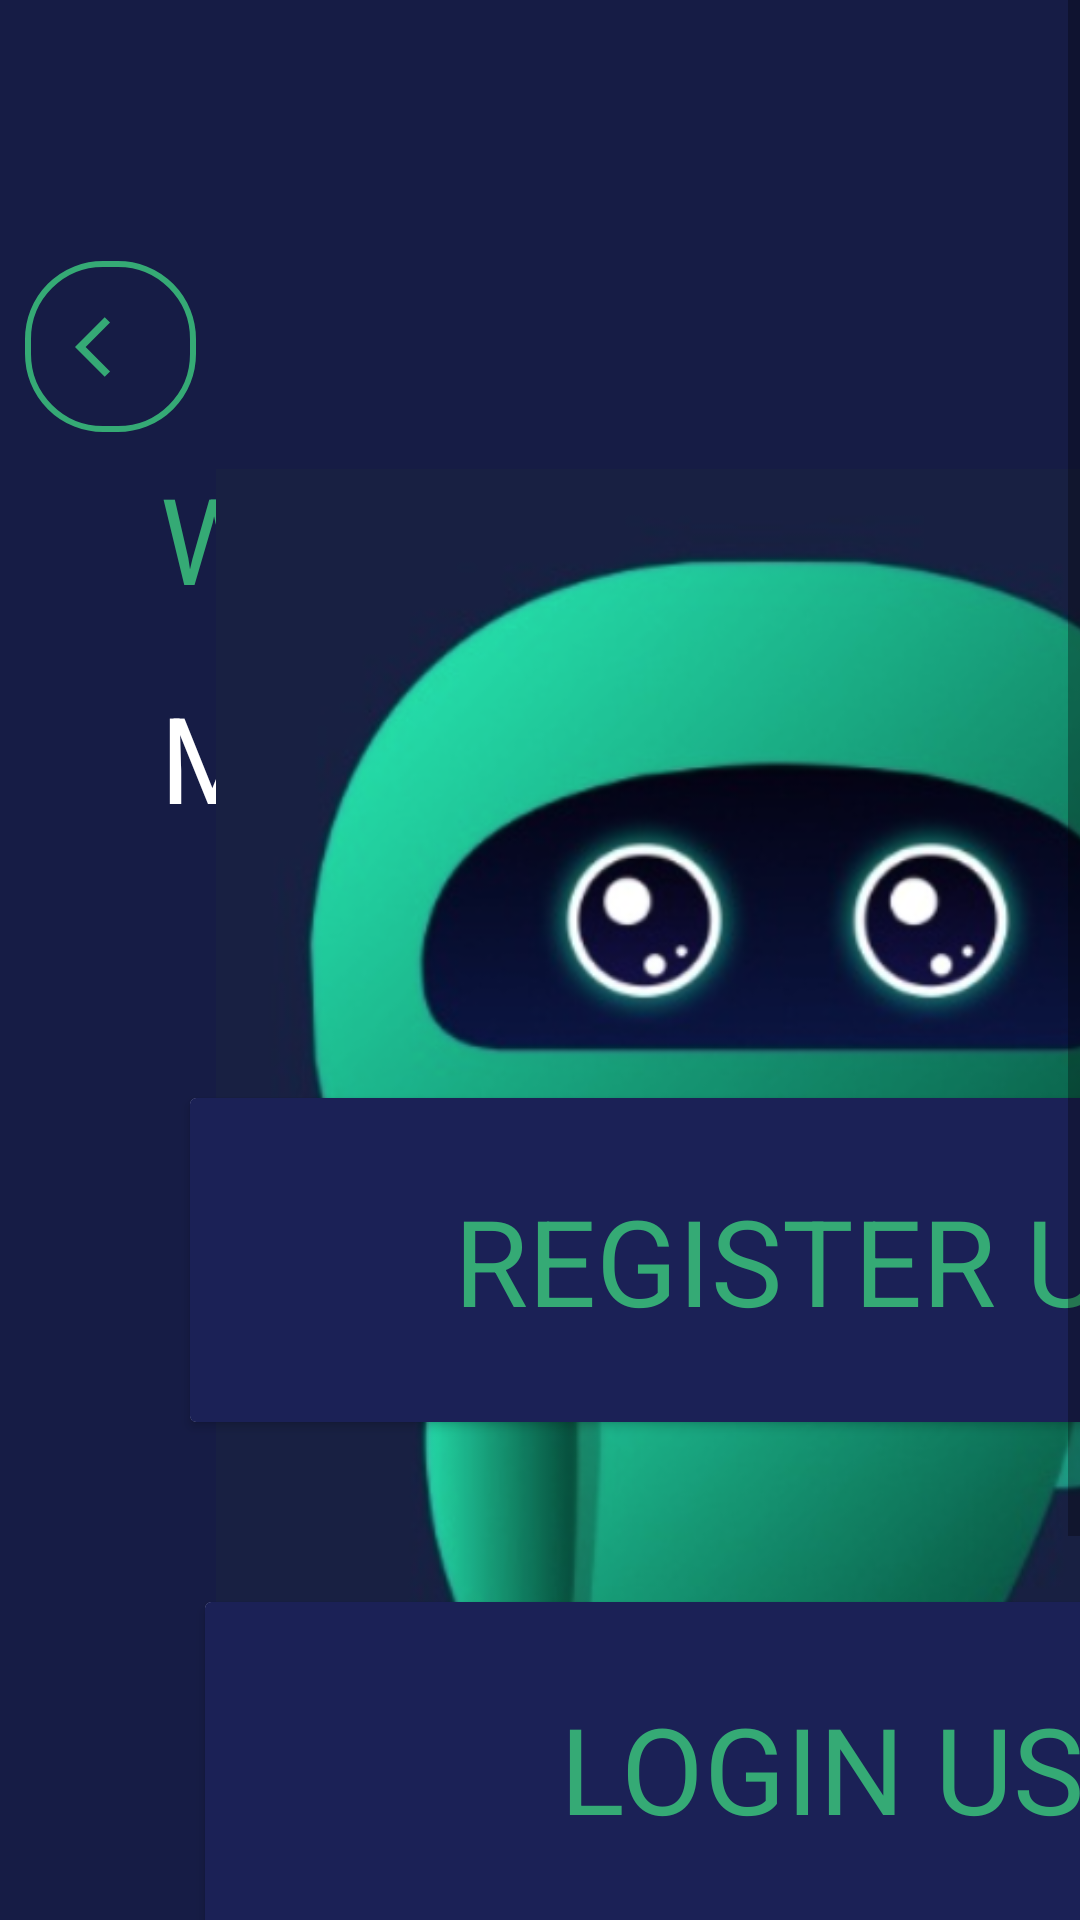

Where icons sit on this 1080x1920 app screen, as (x1, y1, x2, y2):
back: (25, 261, 196, 432)
